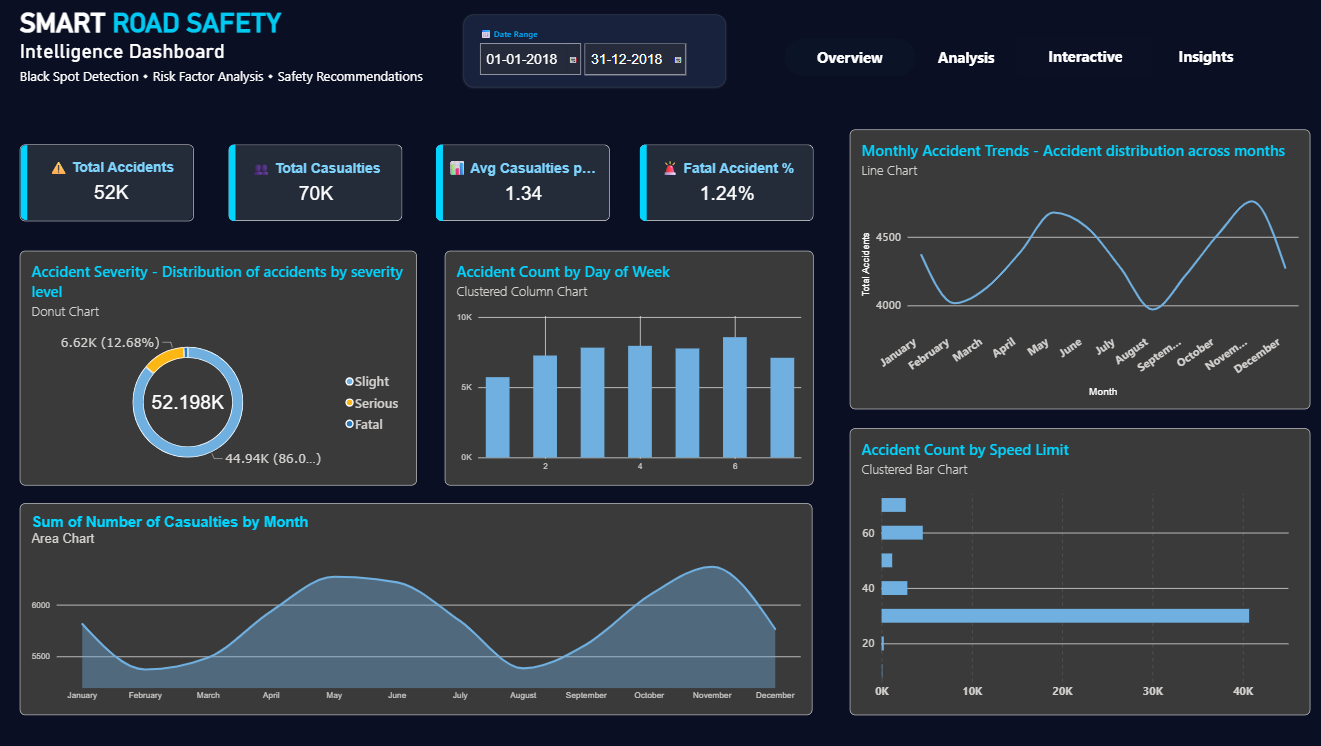

Layout of this report page (visuals, bound fields, positions):
{"tool":"powerbi","page":{"name":"Page 1","canvas":[1920,1080],"ordinal":0},"visuals":[{"type":"textbox","box":[35,100,597.5,35],"z":0},{"type":"textbox","box":[35,61,408.6,53],"z":1000},{"type":"textbox","box":[35,15,505,52.5],"z":2000},{"type":"slicer","fields":{"Values":["Fact_Accidents.Date"]},"box":[672.5,25,377.5,105],"z":3000},{"type":"cardVisual","fields":{"Data":["Fact_Accidents.Total Accidents DAX"]},"box":[35,212.5,250,110],"z":4000},{"type":"cardVisual","fields":{"Data":["Fact_Accidents.Fatal Accident %"]},"box":[925,212.5,250,110],"z":5000},{"type":"cardVisual","fields":{"Data":["Fact_Accidents.Total Casualties DAX"]},"box":[335,212.5,250,110],"z":6000},{"type":"cardVisual","fields":{"Data":["Fact_Accidents.Avg Casualties per Accident"]},"box":[632.5,212.5,250,110],"z":7000},{"type":"lineChart","title":"Monthly Accident Trends - Accident distribution across months","fields":{"Category":["Fact_Accidents.Date.Variation.Date Hierarchy.Month"],"Y":["Dim_Casualties.Total Accidents"]},"box":[1227.5,190,662.5,402.5],"z":8000},{"type":"donutChart","title":"Accident Severity - Distribution of accidents by severity level","fields":{"Category":["Fact_Accidents.Accident_Severity"],"Y":["CountNonNull(Fact_Accidents.Accident_Index)"]},"box":[35,365,571,337.5],"z":9000},{"type":"clusteredColumnChart","title":"Accident Count by Day of Week","fields":{"Category":["Fact_Accidents.Day_of_Week"],"Y":["CountNonNull(Fact_Accidents.Accident_Index)"]},"box":[645,365,530,337.5],"z":10000},{"type":"clusteredBarChart","title":"Accident Count by Speed Limit","fields":{"Category":["Fact_Accidents.Speed_limit"],"Y":["CountNonNull(Fact_Accidents.Accident_Index)"]},"box":[1227.5,620,662.5,412.5],"z":11000},{"type":"areaChart","title":"Sum of Number of Casualties by Month","fields":{"Category":["Fact_Accidents.Date.Variation.Date Hierarchy.Month"],"Y":["Sum(Fact_Accidents.Number_of_Casualties)"]},"box":[35,727.5,1140,305],"z":12000},{"type":"actionButton","box":[1468.3,57.5,196,56],"z":13000},{"type":"actionButton","box":[1301.2,58.8,187.5,55],"z":14000},{"type":"actionButton","box":[1644,58.2,194,56],"z":15000},{"type":"actionButton","box":[1134,58.5,187.5,55],"z":16000}]}

Visuals, with their boxes in screenshot pixels (x1, y1, x2, y2), scaled from the page's 1920x1080 canvas onto the 1321x746 screenshot:
textbox: BBox(24, 69, 435, 93)
textbox: BBox(24, 42, 305, 79)
textbox: BBox(24, 10, 372, 47)
slicer - Fact_Accidents.Date: BBox(463, 17, 722, 90)
cardVisual - Fact_Accidents.Total Accidents DAX: BBox(24, 147, 196, 223)
cardVisual - Fact_Accidents.Fatal Accident %: BBox(636, 147, 808, 223)
cardVisual - Fact_Accidents.Total Casualties DAX: BBox(230, 147, 402, 223)
cardVisual - Fact_Accidents.Avg Casualties per Accident: BBox(435, 147, 607, 223)
"Monthly Accident Trends - Accident distribution across months" lineChart: BBox(845, 131, 1300, 409)
"Accident Severity - Distribution of accidents by severity level" donutChart: BBox(24, 252, 417, 485)
"Accident Count by Day of Week" clusteredColumnChart: BBox(444, 252, 808, 485)
"Accident Count by Speed Limit" clusteredBarChart: BBox(845, 428, 1300, 713)
"Sum of Number of Casualties by Month" areaChart: BBox(24, 503, 808, 713)
actionButton: BBox(1010, 40, 1145, 78)
actionButton: BBox(895, 41, 1024, 79)
actionButton: BBox(1131, 40, 1265, 79)
actionButton: BBox(780, 40, 909, 78)
